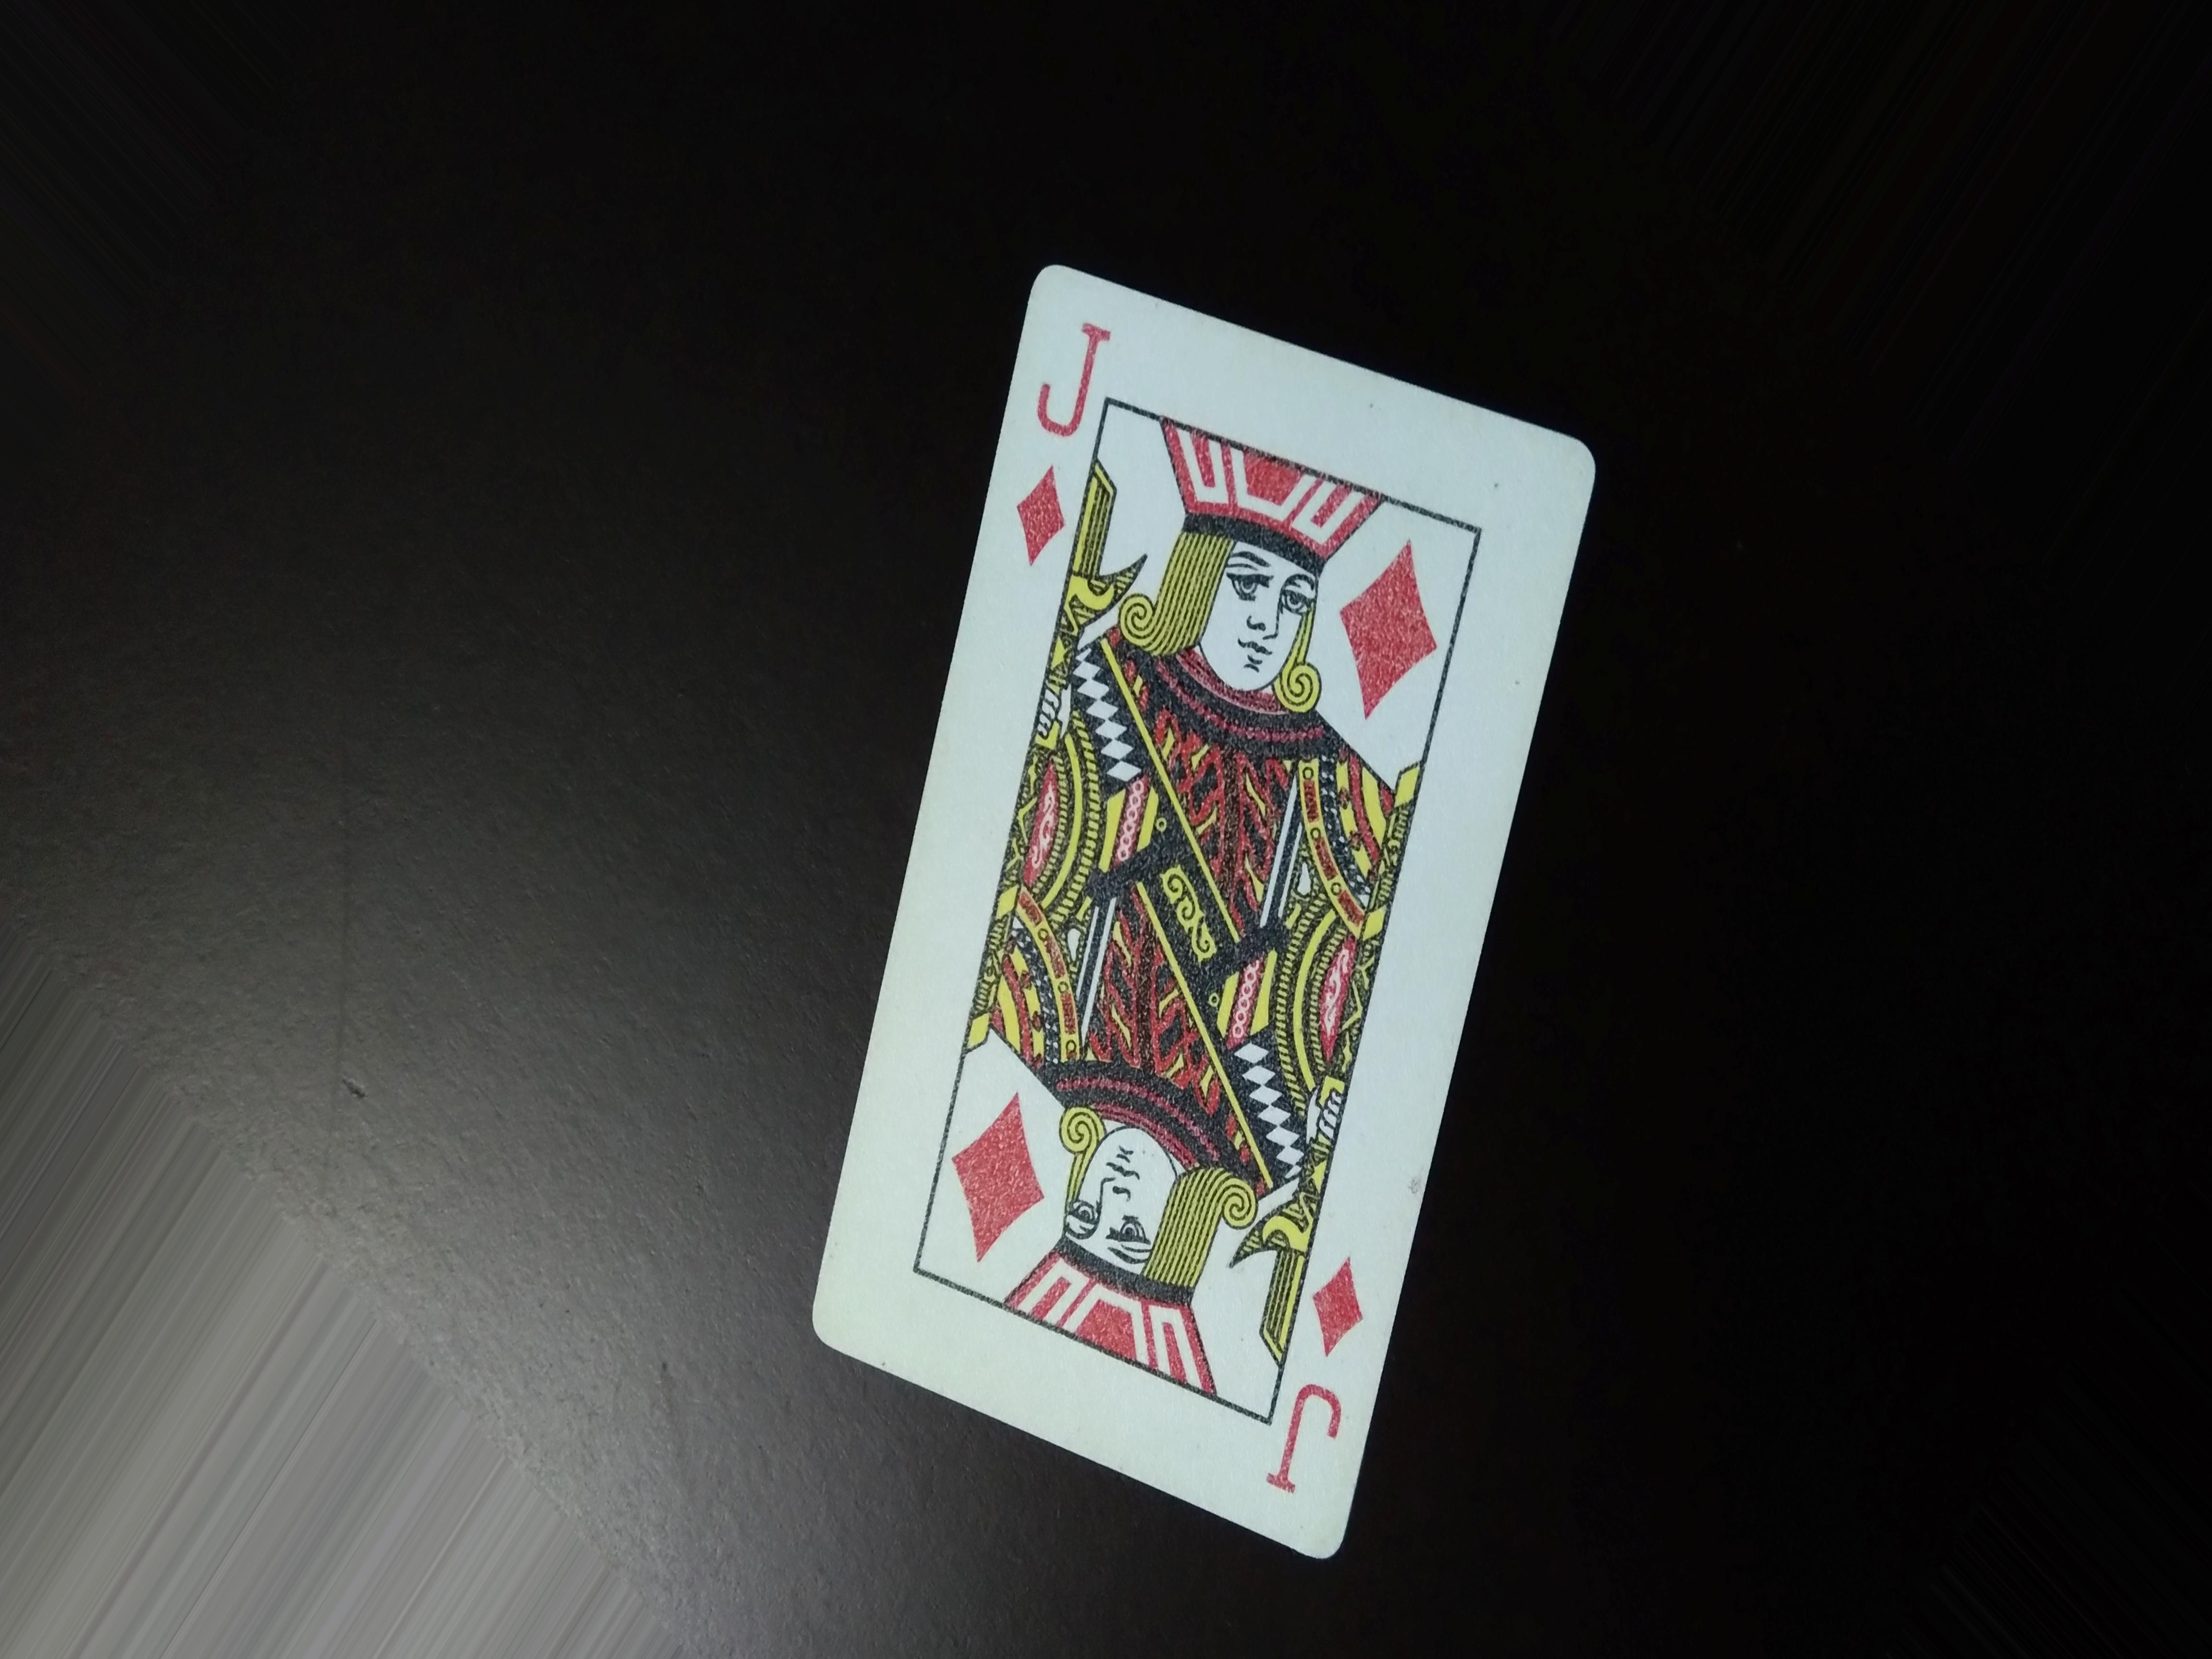JD: (995, 293, 1106, 591)
